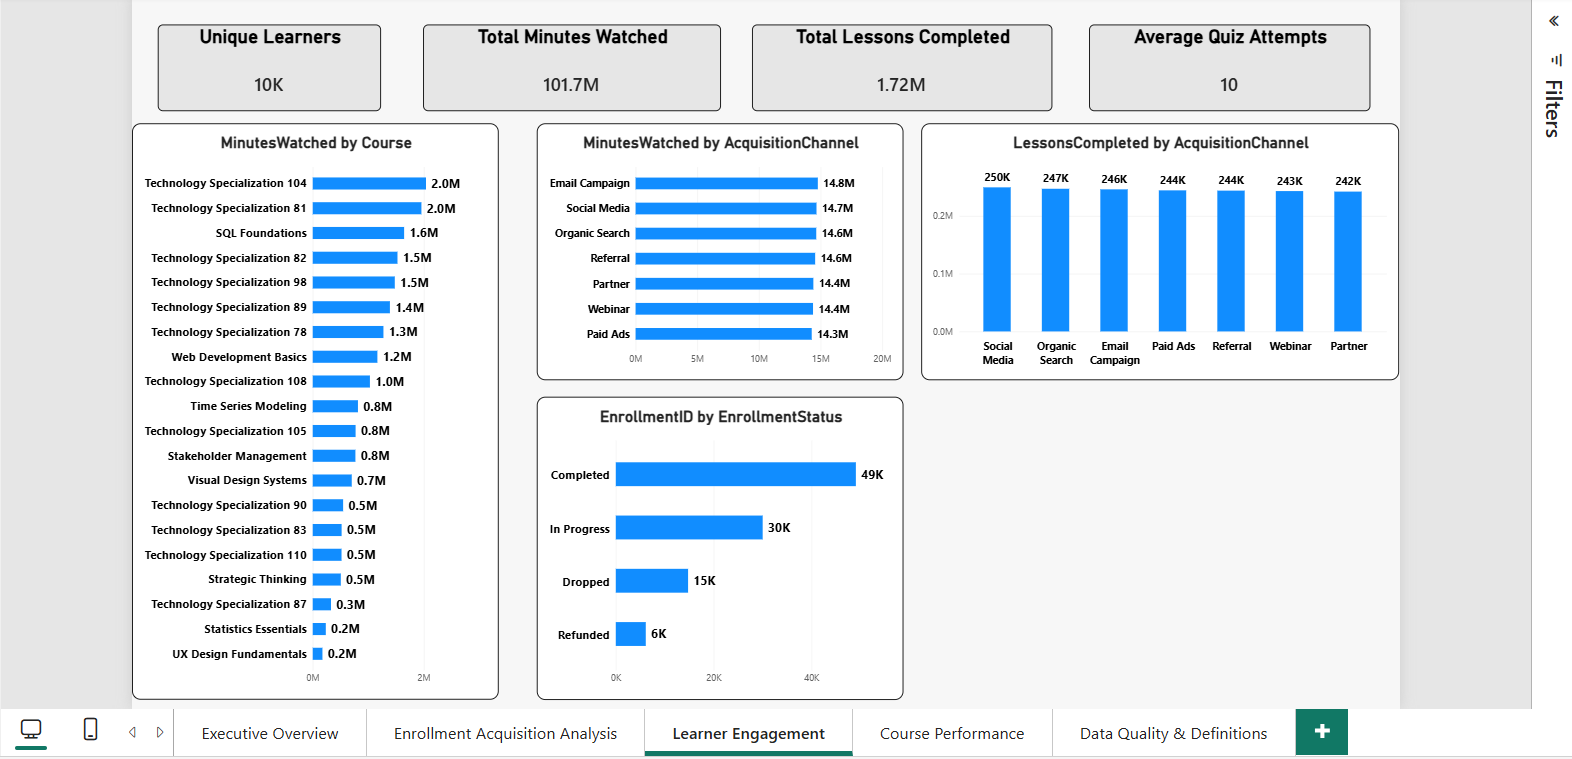

The dashboard page shown, as its layout file describes it:
{"tool":"powerbi","page":{"name":"Learner Engagement","canvas":[1920,1080],"ordinal":2},"visuals":[{"type":"cardVisual","title":"Unique Learners","fields":{"Data":["Count(Learners.LearnerID)"]},"box":[39,43.1,338.3,131.2],"z":0},{"type":"cardVisual","title":"Total Minutes Watched","fields":{"Data":["Sum(LearningActivity.MinutesWatched)"]},"box":[440.8,43.1,451.1,131.2],"z":1},{"type":"cardVisual","title":"Total Lessons Completed","fields":{"Data":["Sum(LearningActivity.LessonsCompleted)"]},"box":[939,43.1,455.2,131.2],"z":2},{"type":"cardVisual","title":"Average Quiz Attempts","fields":{"Data":["Avg(LearningActivity.QuizAttempts)"]},"box":[1449.6,43.1,426.5,131.2],"z":3},{"type":"clusteredBarChart","title":"MinutesWatched by AcquisitionChannel","fields":{"Category":["Enrollments.AcquisitionChannel"],"Y":["Sum(LearningActivity.MinutesWatched)"]},"box":[613,192.7,555.6,389.6],"z":4},{"type":"clusteredBarChart","title":" MinutesWatched by Course","fields":{"Category":["Courses.CourseName"],"Y":["Sum(LearningActivity.MinutesWatched)"]},"box":[0,192.7,555.6,873.4],"z":5},{"type":"clusteredColumnChart","title":" LessonsCompleted by AcquisitionChannel","fields":{"Category":["Enrollments.AcquisitionChannel"],"Y":["Sum(LearningActivity.LessonsCompleted)"]},"box":[1195.3,192.7,723.8,389.6],"z":6},{"type":"clusteredBarChart","title":"EnrollmentID by EnrollmentStatus","fields":{"Category":["Enrollments.EnrollmentStatus"],"Y":["CountNonNull(Enrollments.EnrollmentID)"]},"box":[613,606.9,555.6,459.3],"z":7}]}

Visuals, with their boxes on the page's 1920x1080 design canvas (x1, y1, x2, y2). These are canvas units, not pixel positions in the 1572x759 screenshot, which may show the page scaled, cropped or inside an application window:
"Unique Learners" cardVisual: <bbox>39, 43, 377, 174</bbox>
"Total Minutes Watched" cardVisual: <bbox>441, 43, 892, 174</bbox>
"Total Lessons Completed" cardVisual: <bbox>939, 43, 1394, 174</bbox>
"Average Quiz Attempts" cardVisual: <bbox>1450, 43, 1876, 174</bbox>
"MinutesWatched by AcquisitionChannel" clusteredBarChart: <bbox>613, 193, 1169, 582</bbox>
" MinutesWatched by Course" clusteredBarChart: <bbox>0, 193, 556, 1066</bbox>
" LessonsCompleted by AcquisitionChannel" clusteredColumnChart: <bbox>1195, 193, 1919, 582</bbox>
"EnrollmentID by EnrollmentStatus" clusteredBarChart: <bbox>613, 607, 1169, 1066</bbox>
